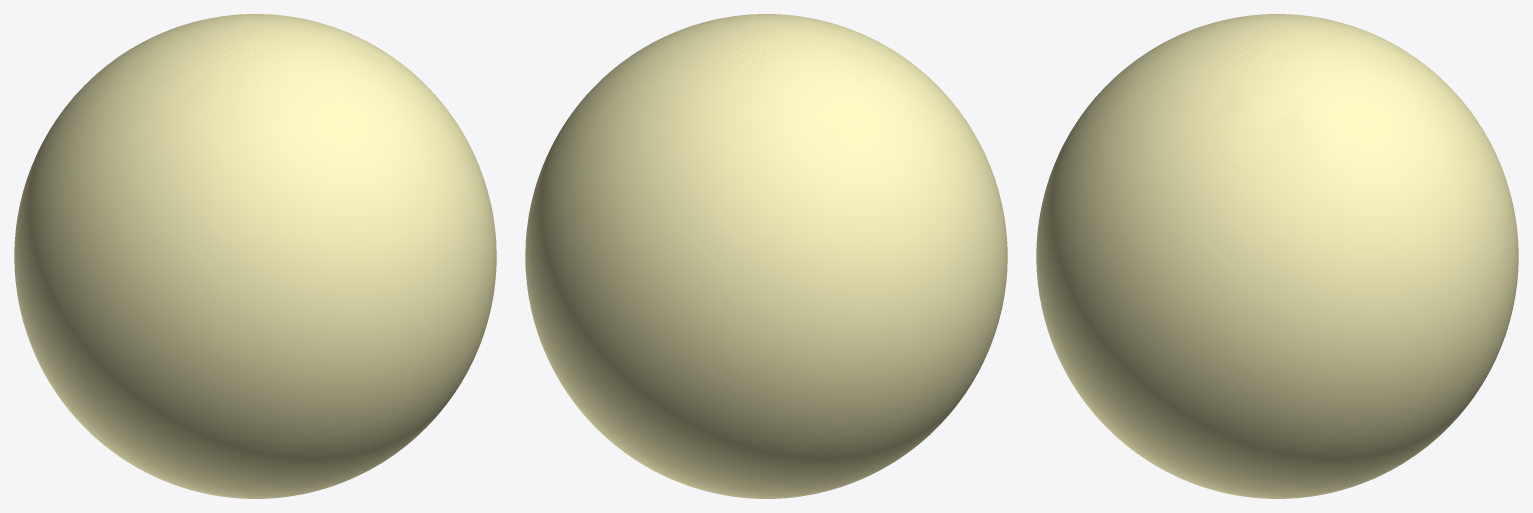
File: Sun.gltf
The picture shows the model from 3 angles, left to right: view 1: azimuth 30°, elevation 25°; view 2: azimuth 150°, elevation 25°; view 3: azimuth 270°, elevation 25°; orthographic projection.
Parts seen in each view (by area): view 1: Sphere; view 2: Sphere; view 3: Sphere.
Boxes of the visible parts, x1,y1,x2,y2 form: Sphere: [14, 14, 496, 498]; Sphere: [525, 14, 1007, 498]; Sphere: [1036, 14, 1518, 498].
Bounding box in the file's own units: 197 × 200 × 197.
Materials: 1 (1 with a texture image).
